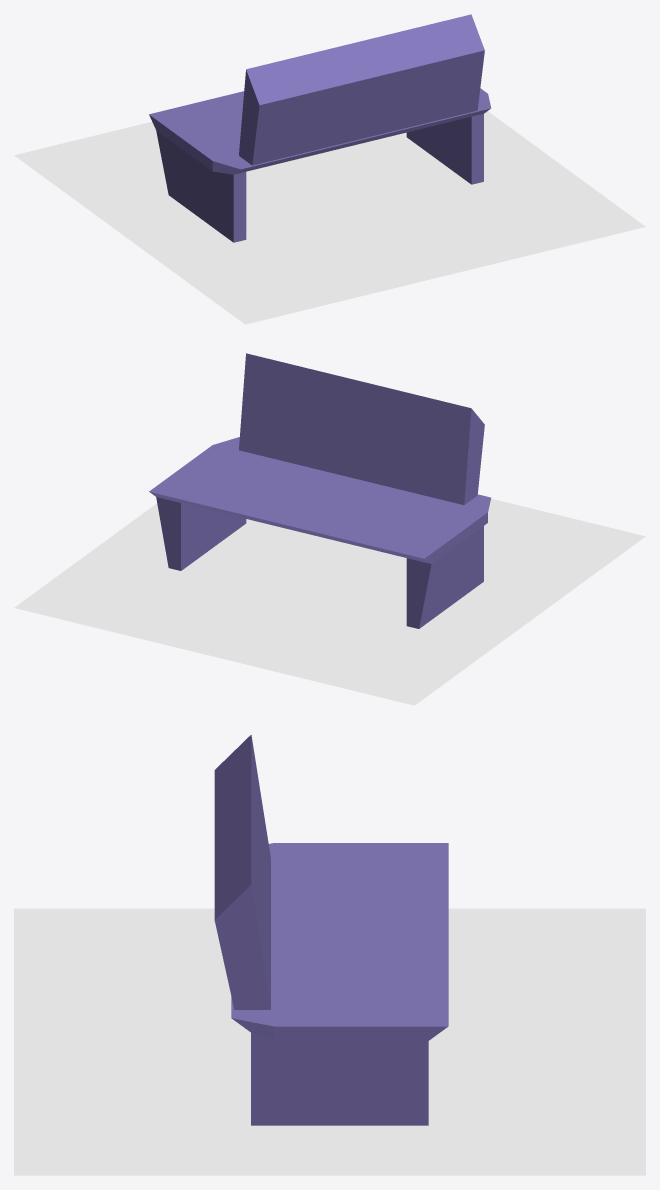
File: WoodenBench.gltf
The picture shows the model from 3 angles, top to bottom: view 1: azimuth 30°, elevation 25°; view 2: azimuth 150°, elevation 25°; view 3: azimuth 270°, elevation 25°; orthographic projection. The views are drawn at different scales.
Parts seen in each view (by area): view 1: plane, bench; view 2: plane, bench; view 3: plane, bench.
Boxes of the visible parts, bbox=[...] form: plane: bbox=[14, 111, 645, 324]; bench: bbox=[149, 14, 491, 242]; plane: bbox=[14, 498, 645, 705]; bench: bbox=[149, 353, 490, 628]; plane: bbox=[14, 908, 645, 1175]; bench: bbox=[214, 735, 448, 1125].
Bounding box in the file's own units: 2 × 0.8125 × 2.
2 materials, 1 textured.
